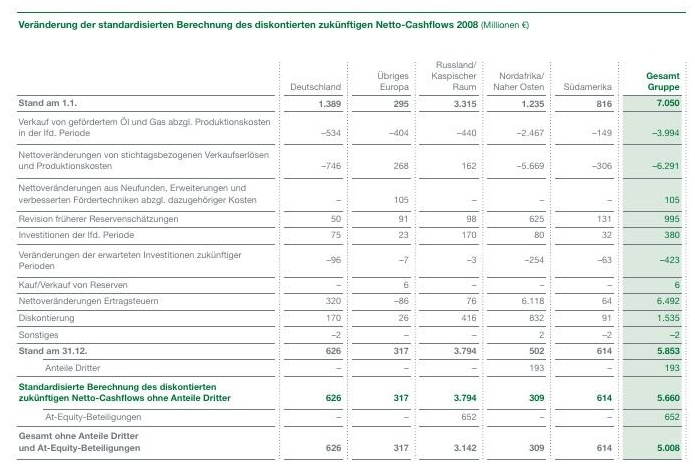table: (0, 0, 695, 468)
